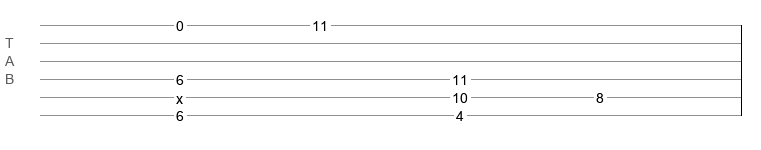0: (176, 18, 184, 28)
10: (452, 90, 468, 100)
11: (312, 18, 328, 28), (452, 72, 468, 82)
4: (456, 108, 464, 118)
6: (176, 72, 184, 82), (176, 108, 184, 118)
8: (596, 90, 604, 100)
x: (176, 91, 183, 99)
